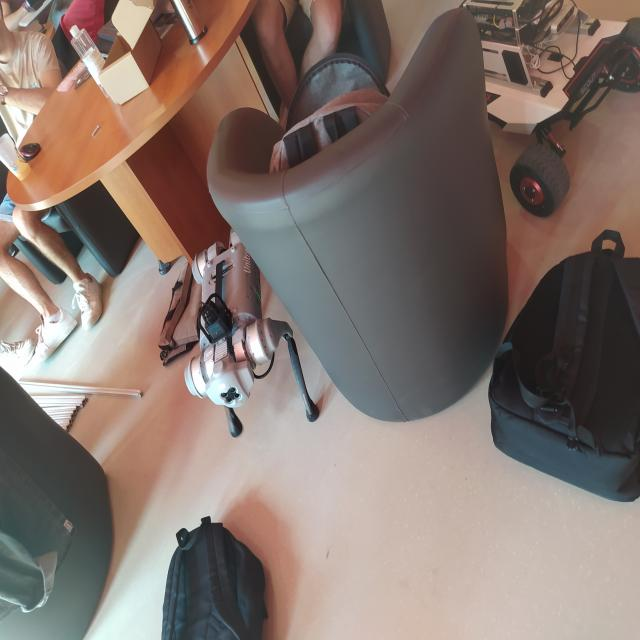unitree-go1-robot: (178, 219, 334, 452)
